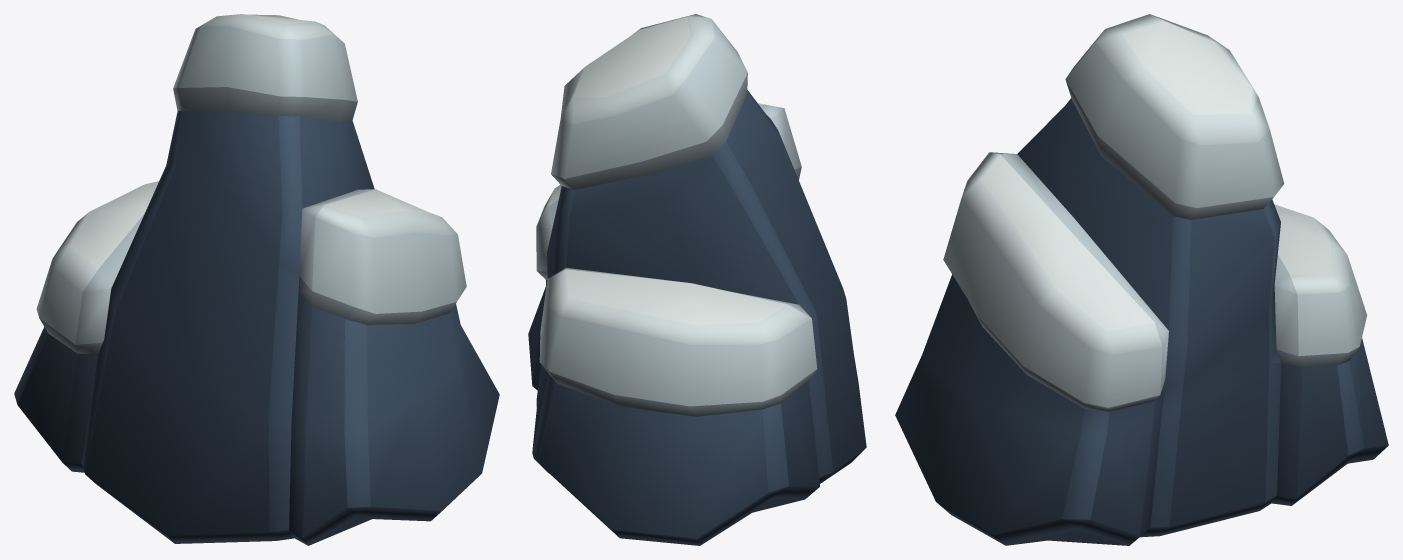
Rendered from rock_snow_020.fbx.
The picture shows the model from 3 angles, left to right: view 1: azimuth 30°, elevation 25°; view 2: azimuth 150°, elevation 25°; view 3: azimuth 270°, elevation 25°; orthographic projection. The views are drawn at different scales.
Visible parts, largest first — view 1: rock_snow_020; view 2: rock_snow_020; view 3: rock_snow_020.
Boxes of the visible parts, box(x1,y1,x2,y2) form: rock_snow_020: box(14, 14, 499, 545); rock_snow_020: box(528, 14, 866, 545); rock_snow_020: box(895, 14, 1388, 545).
Size of the model in its own units: 249 by 306 by 283.
1 material, 1 textured.
